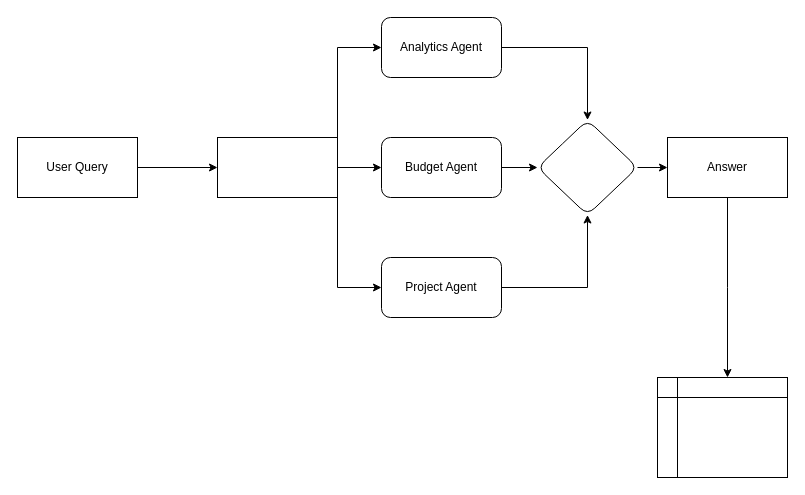
The diagram is 805 pixels wide and 495 high, and some of its shapes have lost their labels. Here are the shapes that lost their labels. From the top down, the centre of each, then its label:
(x=277, y=167): Orchestrator Entry Point
(x=587, y=167): Call Relevant Tool
(x=722, y=427): Log Query, Agent Call, Answer
